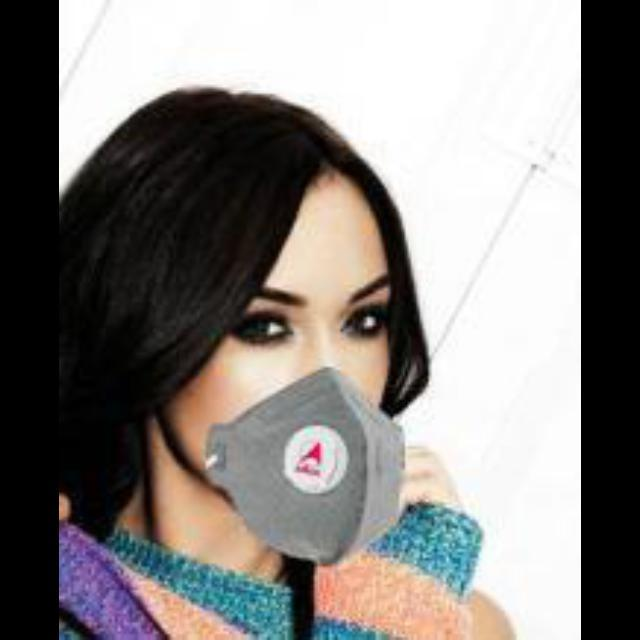suspicion: (140, 85, 462, 569)
